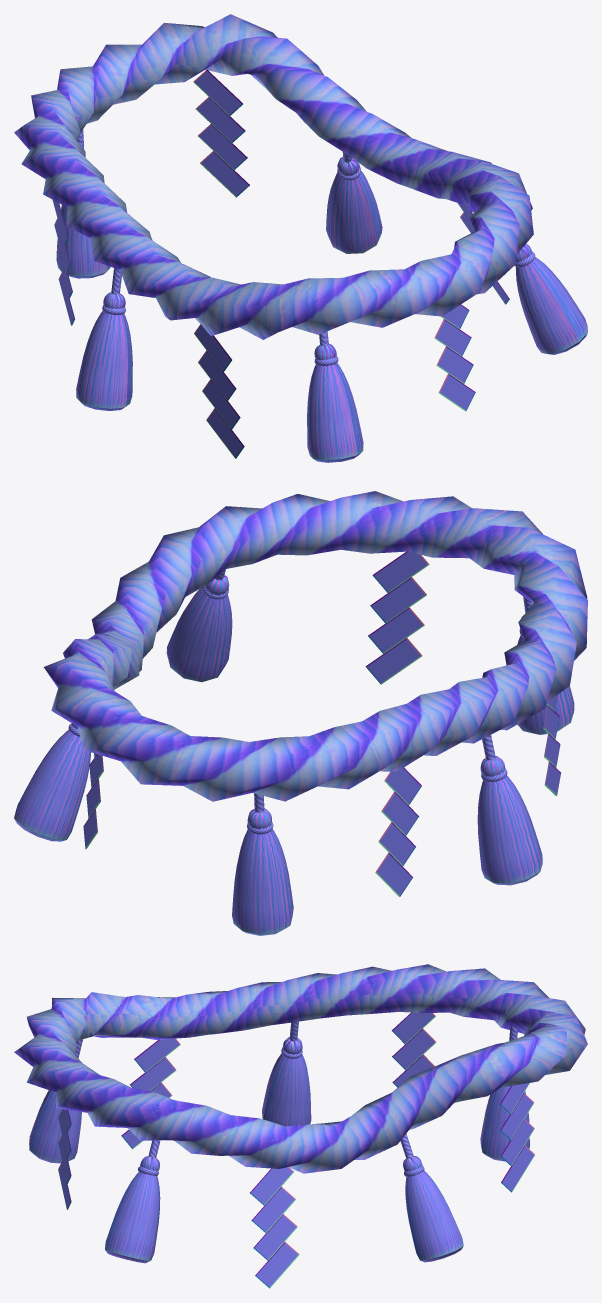
The model's file is SM_EastLands_Rope_04.fbx.
The picture shows the model from 3 angles, top to bottom: view 1: azimuth 30°, elevation 25°; view 2: azimuth 150°, elevation 25°; view 3: azimuth 270°, elevation 25°; orthographic projection. The views are drawn at different scales.
Visible parts, largest first — view 1: SM_EastLands_Rope_04_LOD0; view 2: SM_EastLands_Rope_04_LOD0; view 3: SM_EastLands_Rope_04_LOD0.
Boxes of the visible parts, x1,y1,x2,y2 form: SM_EastLands_Rope_04_LOD0: [14, 14, 587, 462]; SM_EastLands_Rope_04_LOD0: [14, 491, 587, 935]; SM_EastLands_Rope_04_LOD0: [14, 964, 587, 1288].
Bounding box in the file's own units: 243 × 127 × 323.
